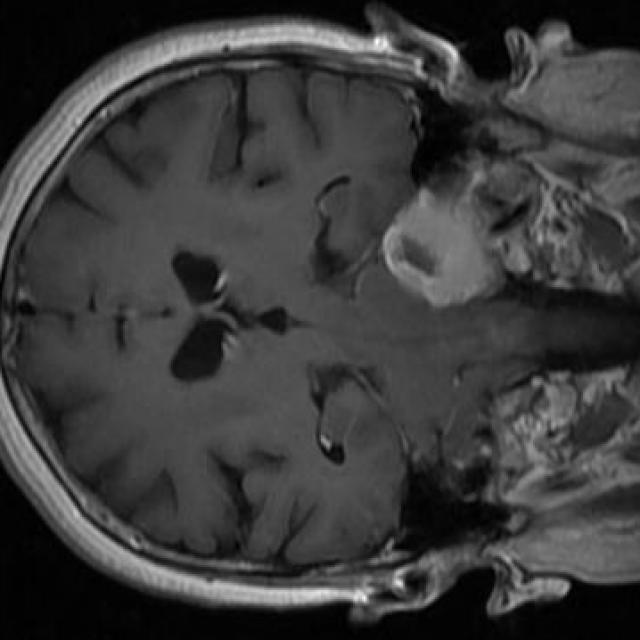meningioma: (383, 173, 497, 303)
